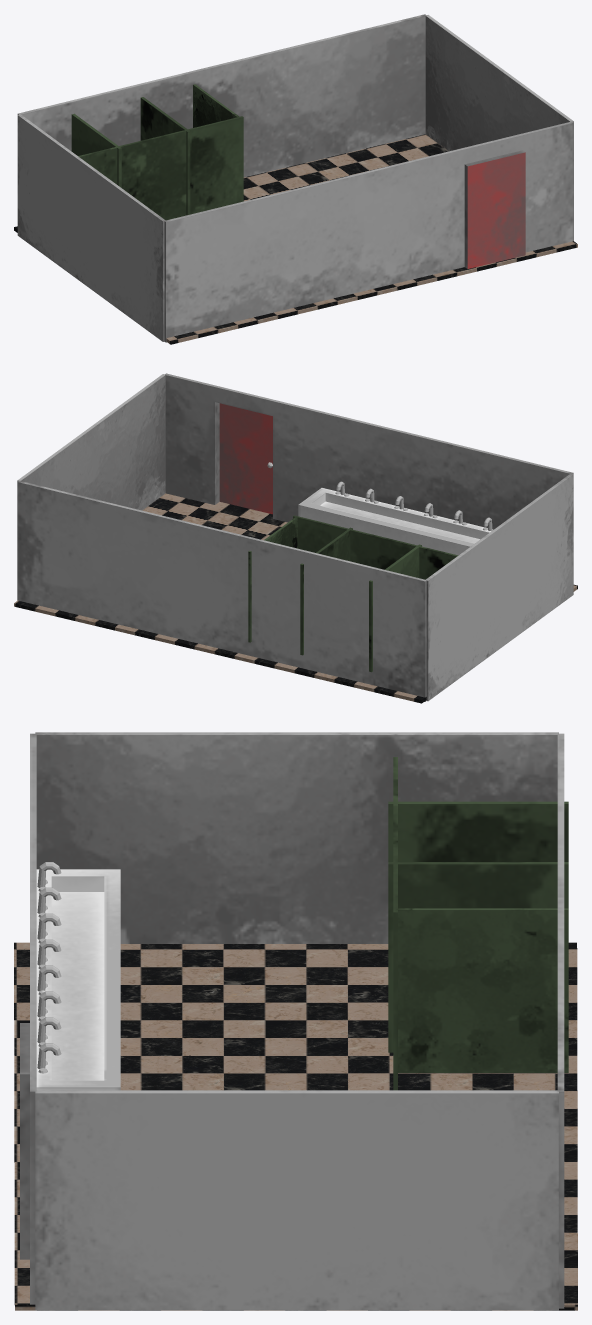
File: Bathroom 1.fbx
3 renders of one model, top to bottom at view 1: azimuth 30°, elevation 25°; view 2: azimuth 150°, elevation 25°; view 3: azimuth 270°, elevation 25°, orthographic. The views are drawn at different scales.
Visible parts, largest first — view 1: polySurface2, polySurface1; view 2: polySurface2, polySurface1; view 3: polySurface2.
Part boxes in pixels (x1,y1,x2,y2): polySurface2: [14, 14, 577, 344]; polySurface1: [119, 130, 186, 220]; polySurface2: [14, 373, 577, 703]; polySurface1: [350, 529, 417, 569]; polySurface2: [14, 732, 577, 1310].
Bounding box in the file's own units: 20.73 × 6.63 × 13.69.
